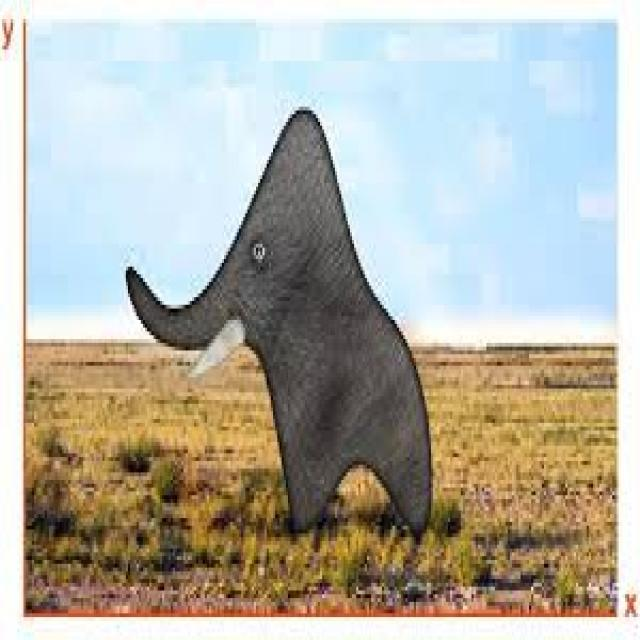Elephant: (124, 103, 433, 541)
